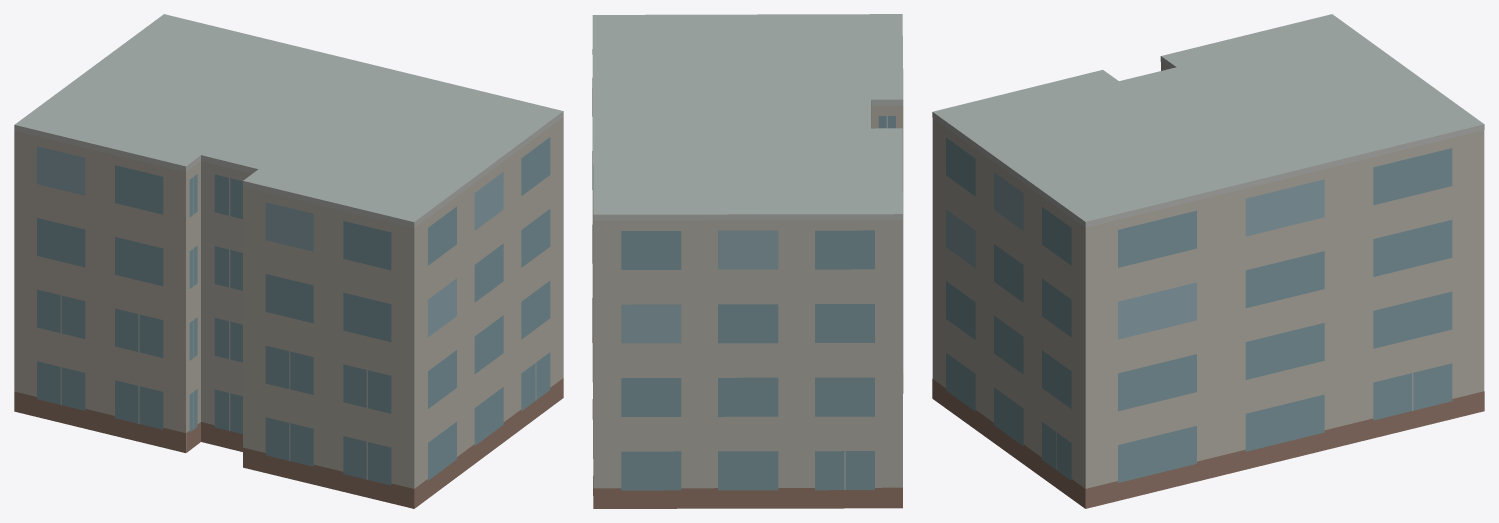
The model's file is survey-upis-32612777.glb.
The picture shows the model from 3 angles, left to right: view 1: azimuth 30°, elevation 25°; view 2: azimuth 150°, elevation 25°; view 3: azimuth 270°, elevation 25°; orthographic projection. The views are drawn at different scales.
Visible parts, largest first — view 1: survey-upis-32612777.tmp; view 2: survey-upis-32612777.tmp; view 3: survey-upis-32612777.tmp.
Part boxes in pixels (bbox=[...]): survey-upis-32612777.tmp: bbox=[14, 14, 563, 508]; survey-upis-32612777.tmp: bbox=[592, 14, 903, 508]; survey-upis-32612777.tmp: bbox=[932, 14, 1484, 508].
Bounding box in the file's own units: 18.66 × 12 × 20.93.
